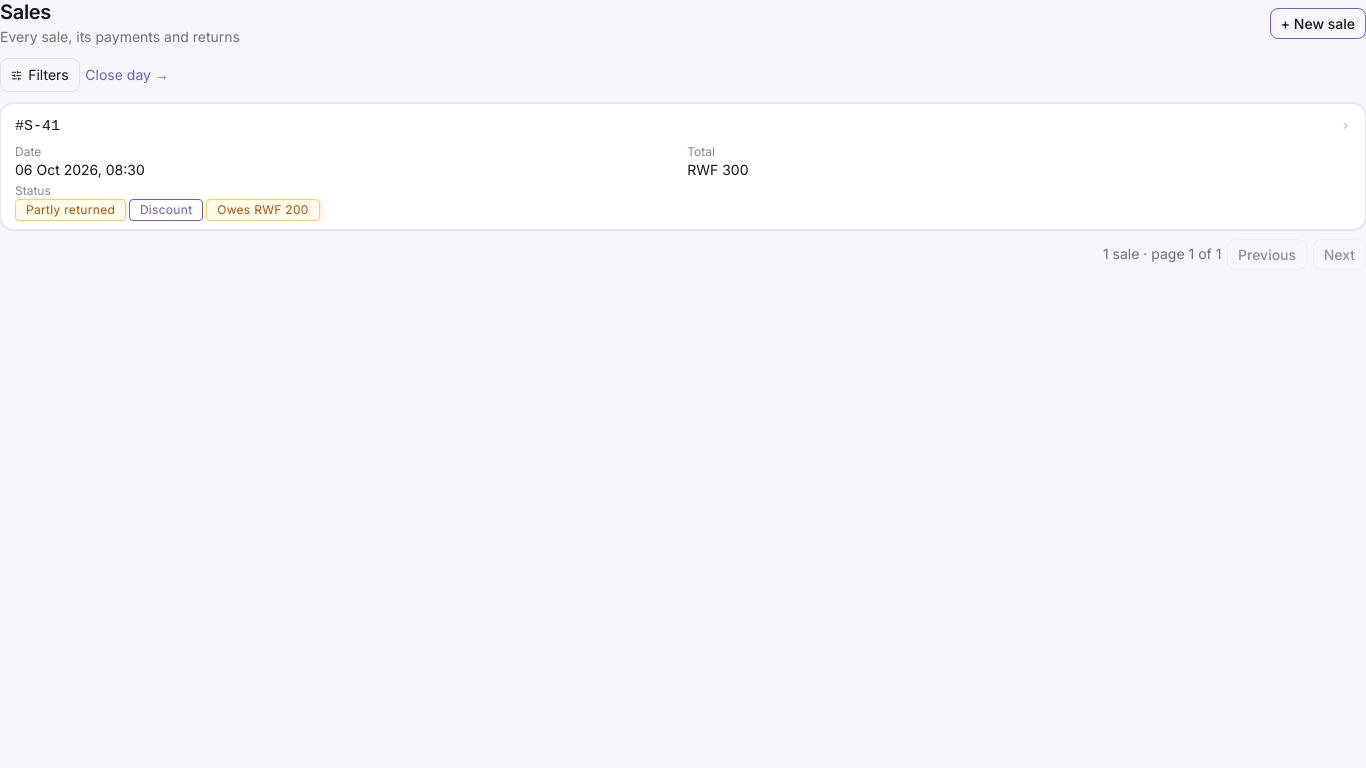
Test: SalesPageClient › shows sales as cards and tucks the filters behind a Filters button on a phone
The image size is (1366, 768).
expect the list item "#S-41" shows "RWF 300": met, box [0, 103, 1365, 230]
expect the field labelled "Payment method" is not shown: met
Click the button "Filters": (40, 75) [0, 58, 80, 92]
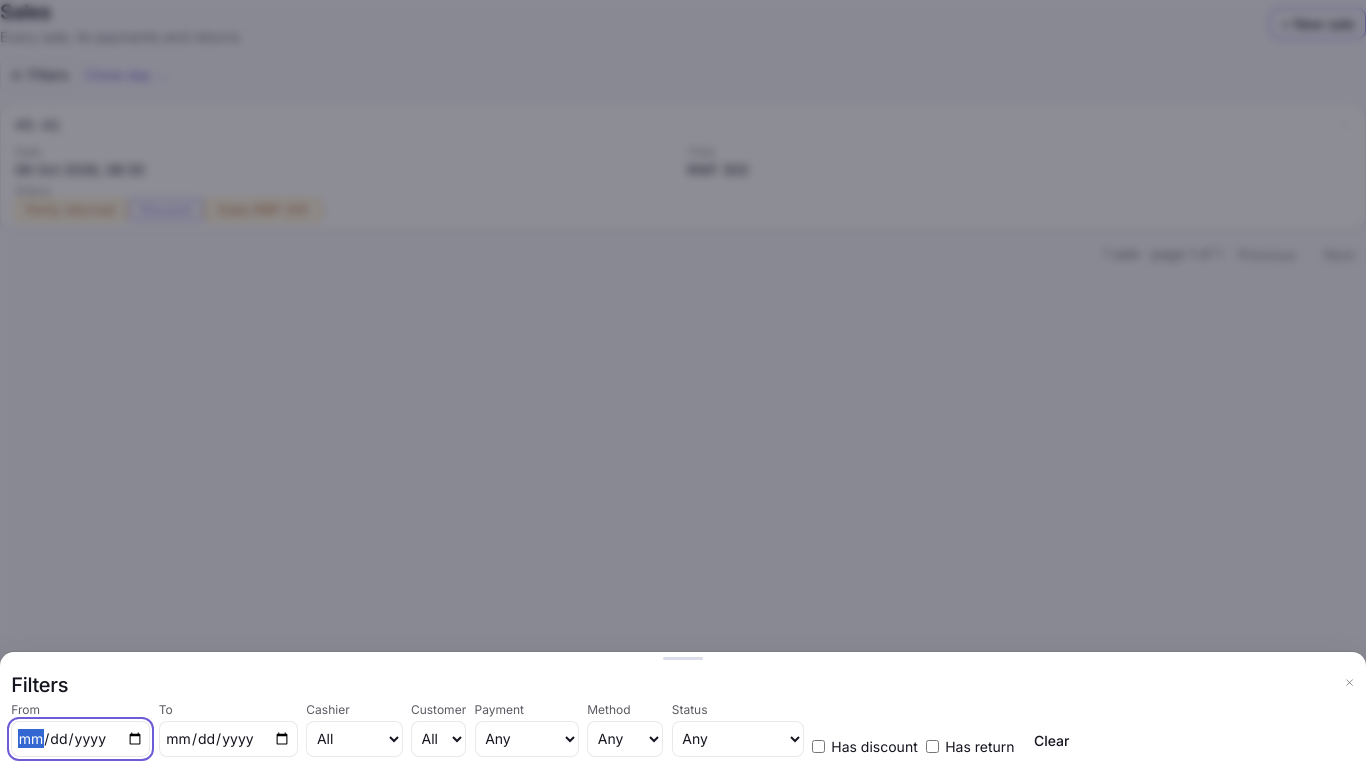
expect the dropdown named "Payment method" is shown: met, box [587, 721, 663, 757]
